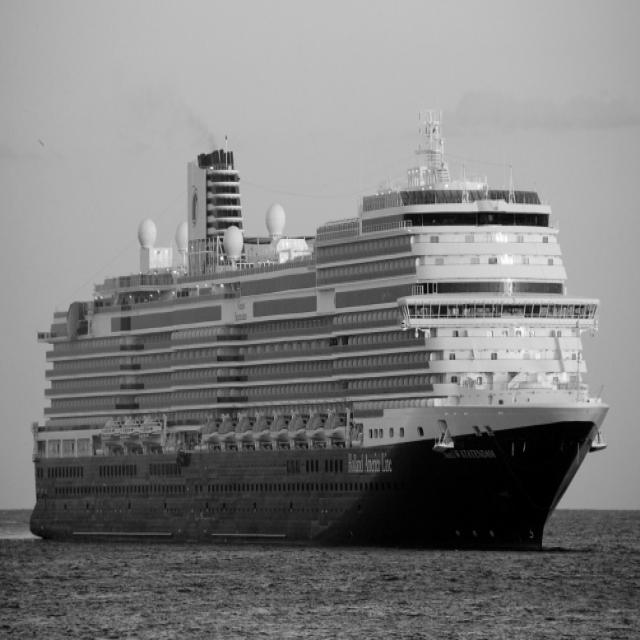cruises: (19, 106, 613, 563)
